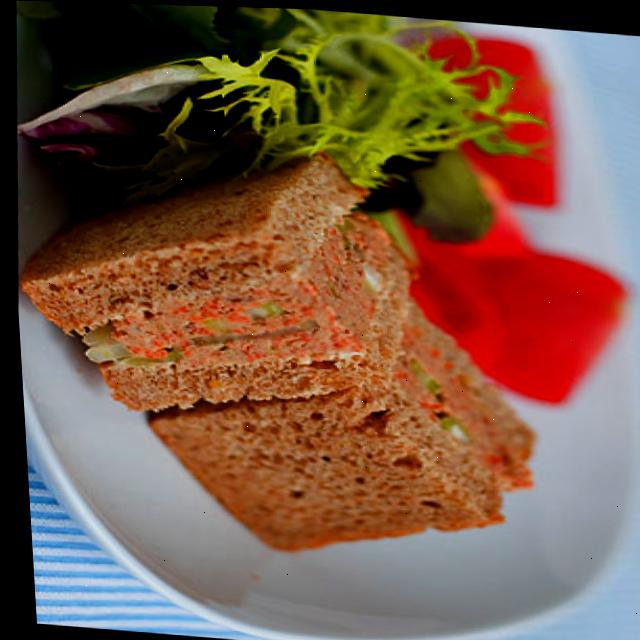三明治: (6, 122, 427, 489)
